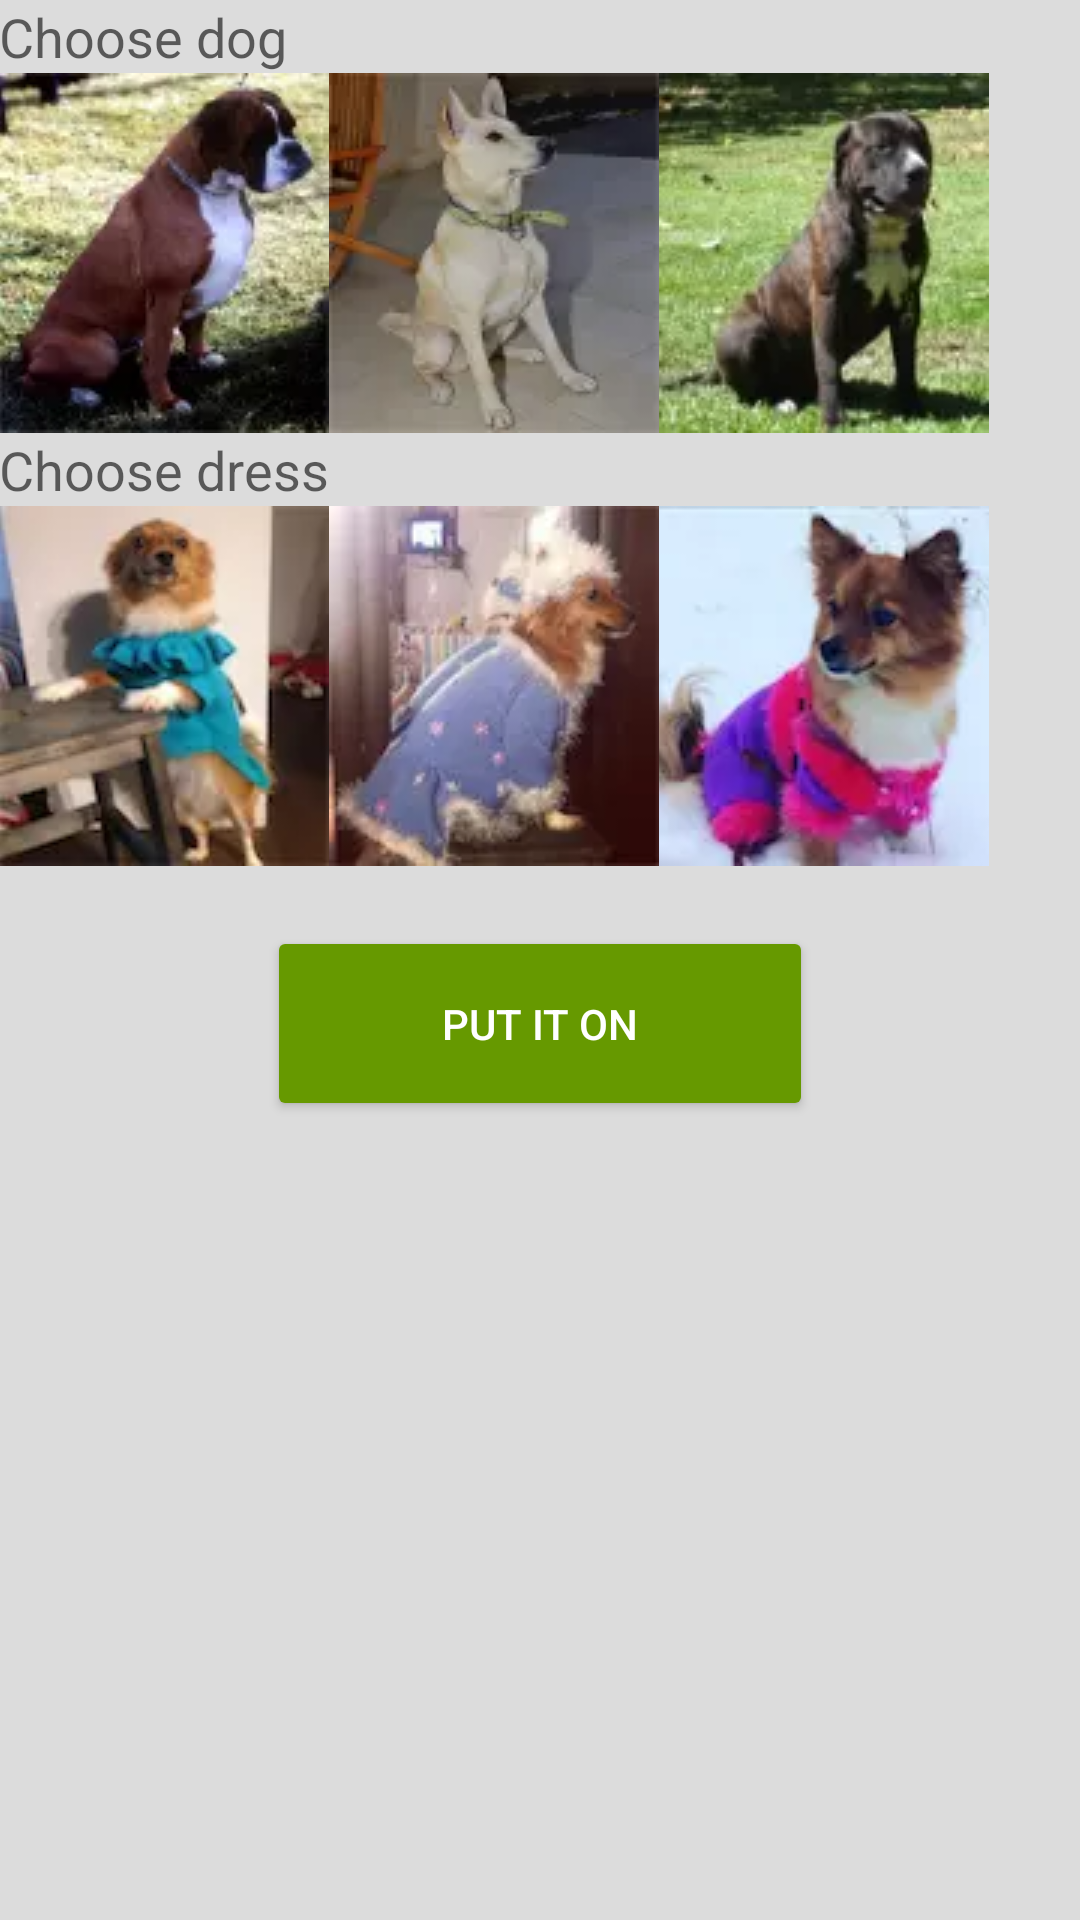

Point at icon controls on the screen. Image size 1080w x 1920h, points as (x,y).
amstaf: (824,253)
bokser: (164,253)
cannan: (494,253)
